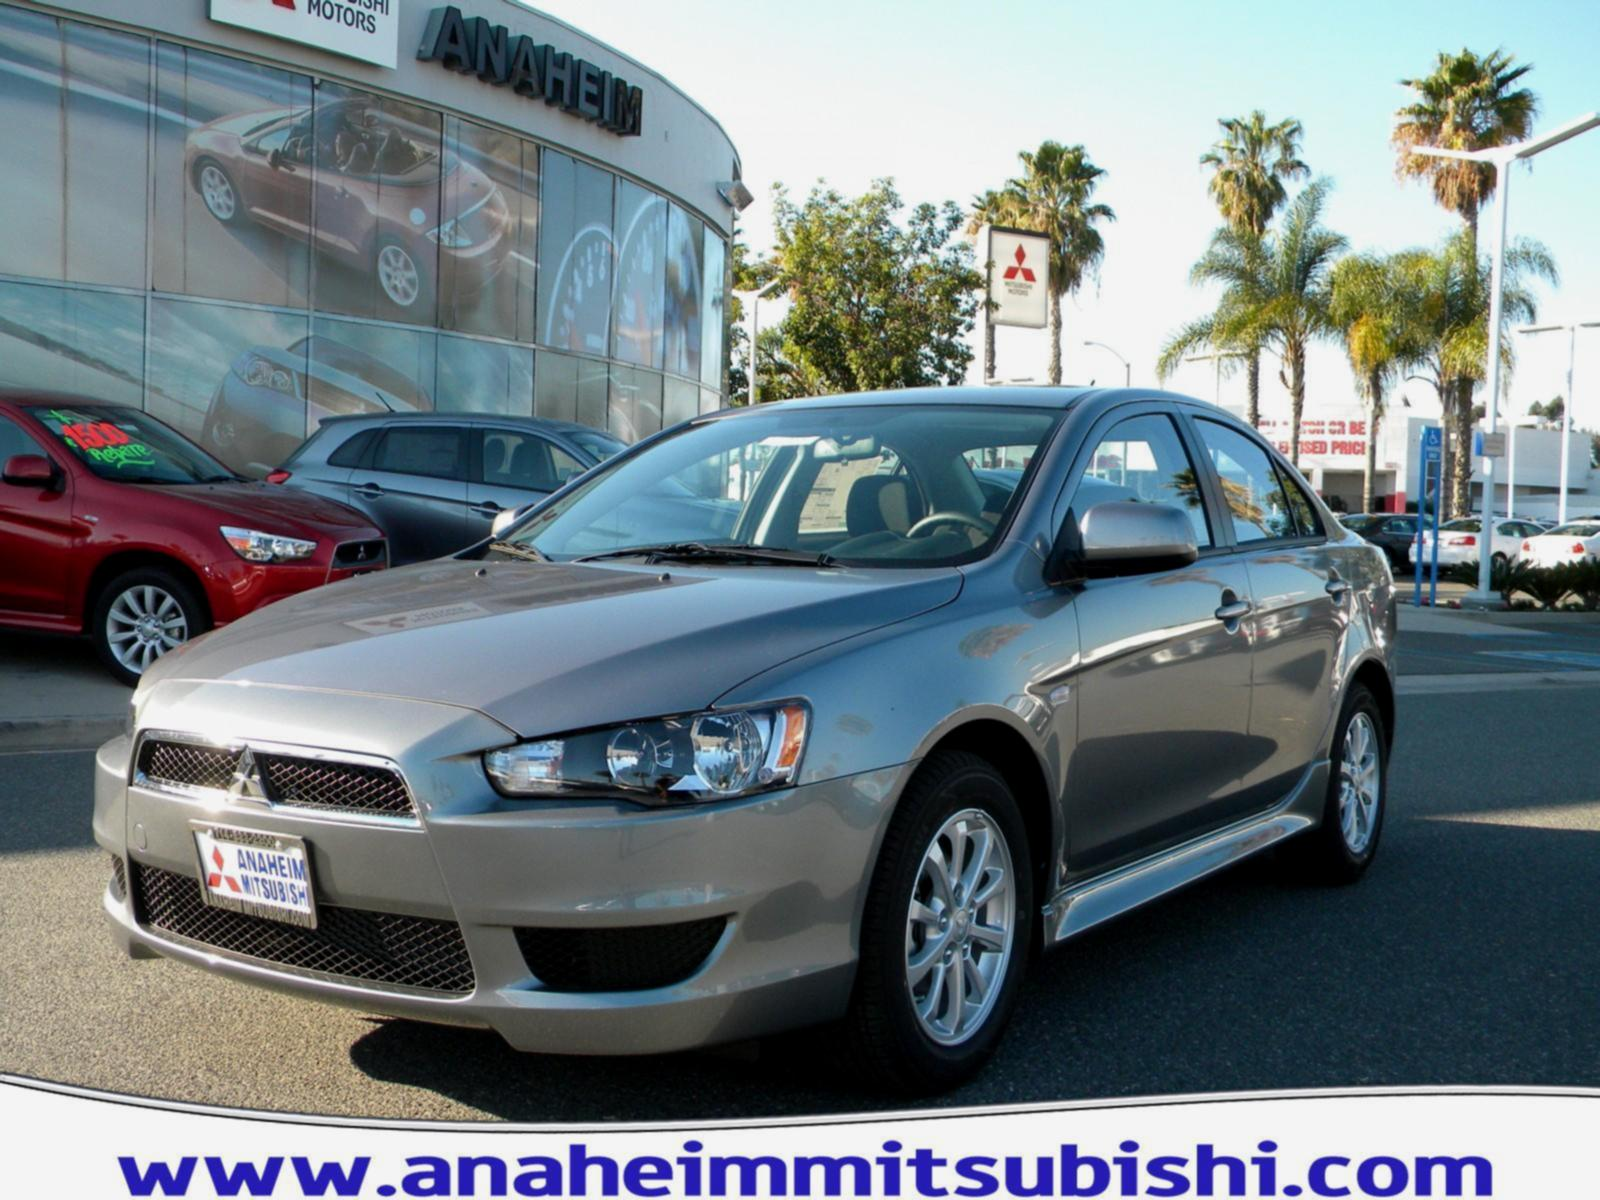Mitsubishi: (195, 734, 294, 811)
